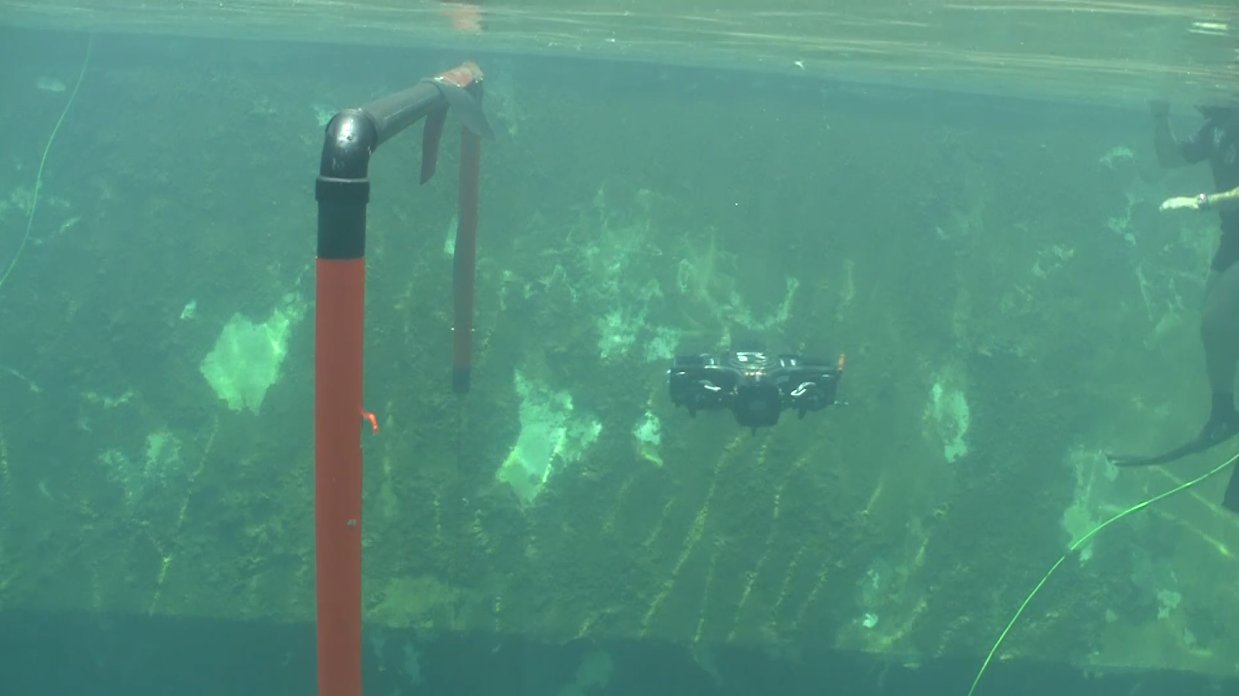gate: (287, 57, 505, 686)
